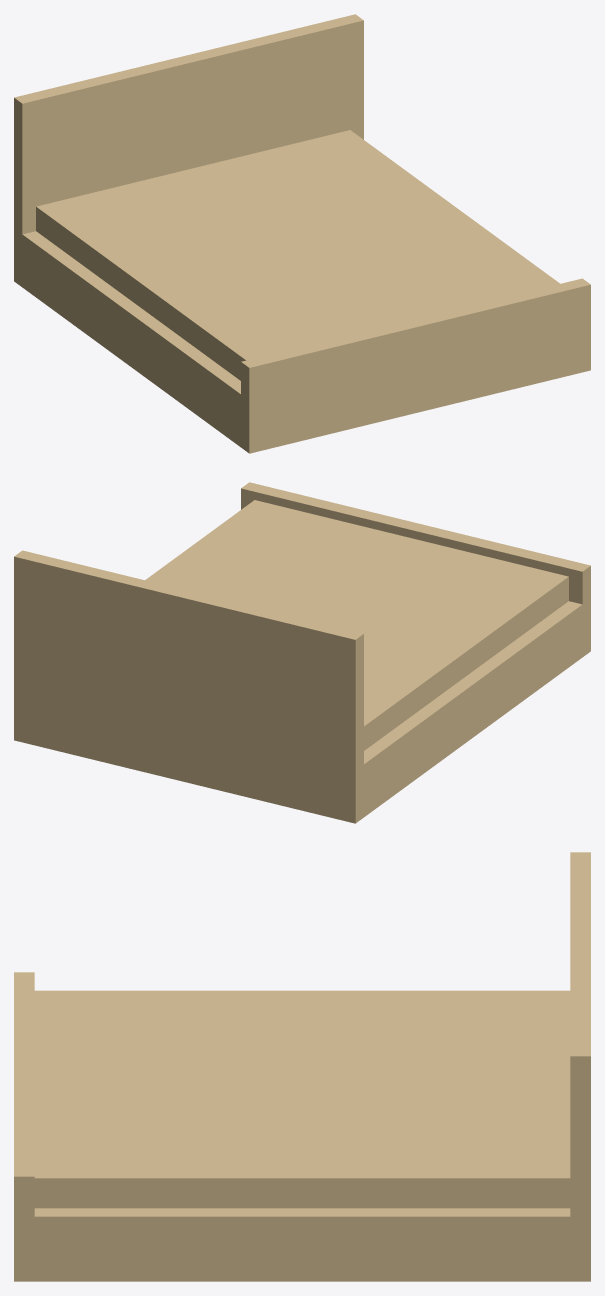
The model's file is ikea-malm-bed-160.glb.
The picture shows the model from 3 angles, top to bottom: view 1: azimuth 30°, elevation 25°; view 2: azimuth 150°, elevation 25°; view 3: azimuth 270°, elevation 25°; orthographic projection. The views are drawn at different scales.
Bounding box in the file's own units: 1.75 × 0.9 × 2.09.
